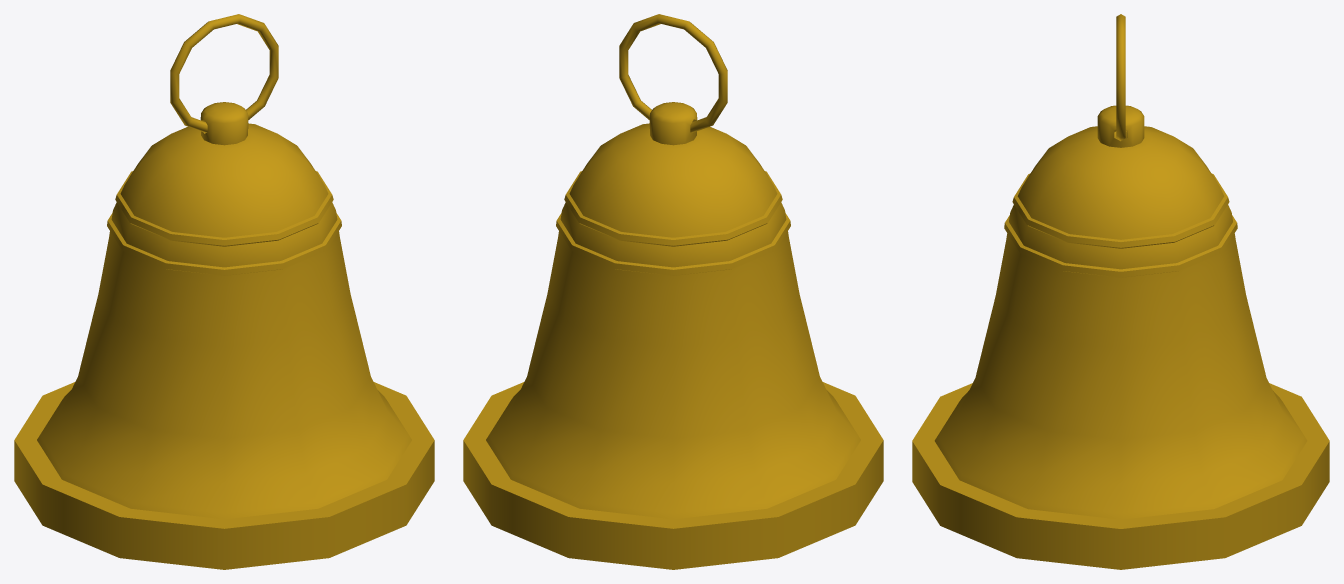
Rendered from bell.glb.
The picture shows the model from 3 angles, left to right: view 1: azimuth 30°, elevation 25°; view 2: azimuth 150°, elevation 25°; view 3: azimuth 270°, elevation 25°; orthographic projection.
Visible parts, largest first — view 1: Bell, Handle; view 2: Bell, Handle; view 3: Bell, Handle.
Boxes of the visible parts, x1,y1,x2,y2 form: Bell: (14,102,434,569); Handle: (170,14,278,132); Bell: (463,102,883,569); Handle: (619,14,727,132); Bell: (912,105,1329,569); Handle: (1116,14,1125,140).
Size of the model in its own units: 1.46 by 2.03 by 1.46.
